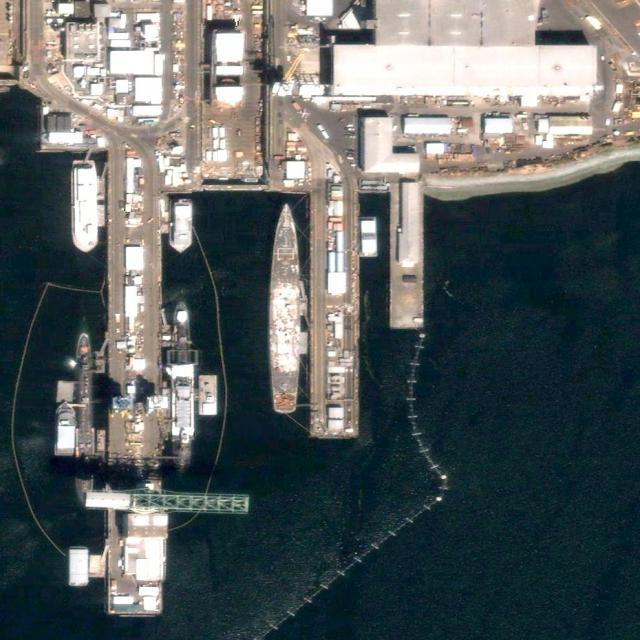Dock: (106, 189, 169, 617), (308, 188, 359, 438)
Other Ship: (73, 162, 99, 250), (54, 403, 75, 456), (172, 202, 193, 253)
Other Warship: (268, 203, 301, 414)
Submarine: (171, 302, 193, 473), (76, 331, 92, 508)
